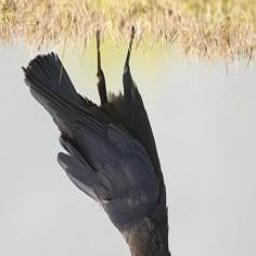Crow: (23, 26, 185, 256)
